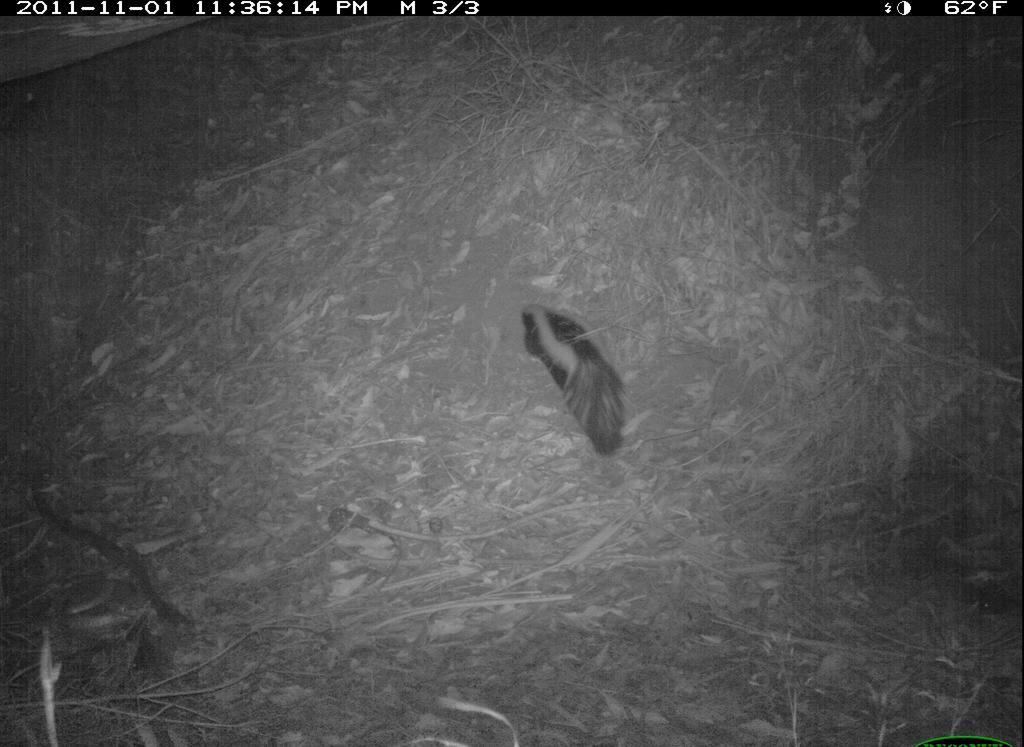skunk: (515, 290, 643, 459)
